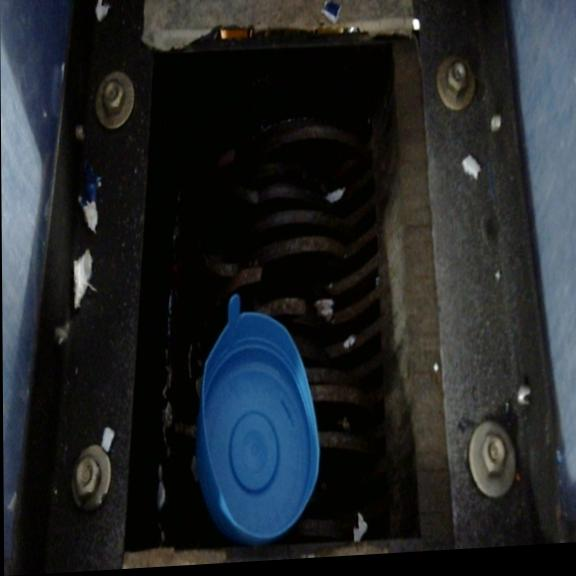Plastik: (178, 290, 341, 566)
